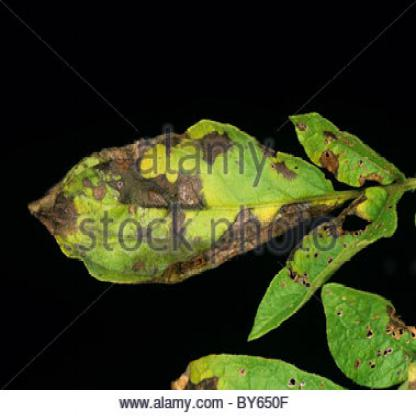potato leaf early blight: (24, 117, 357, 290), (286, 107, 409, 198), (315, 276, 415, 385)
